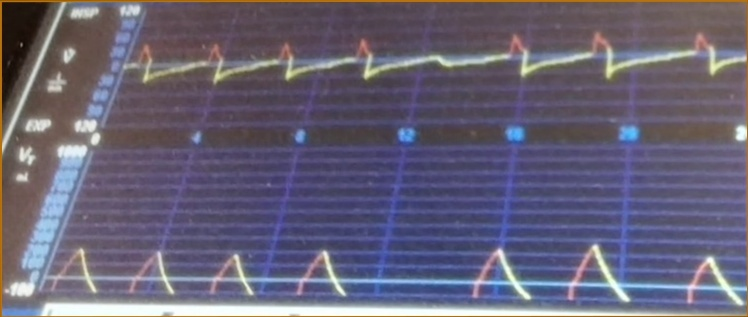Ineffective_effort Flow: (132, 23, 745, 114)
Ineffective_effort Volume: (48, 230, 748, 305)
